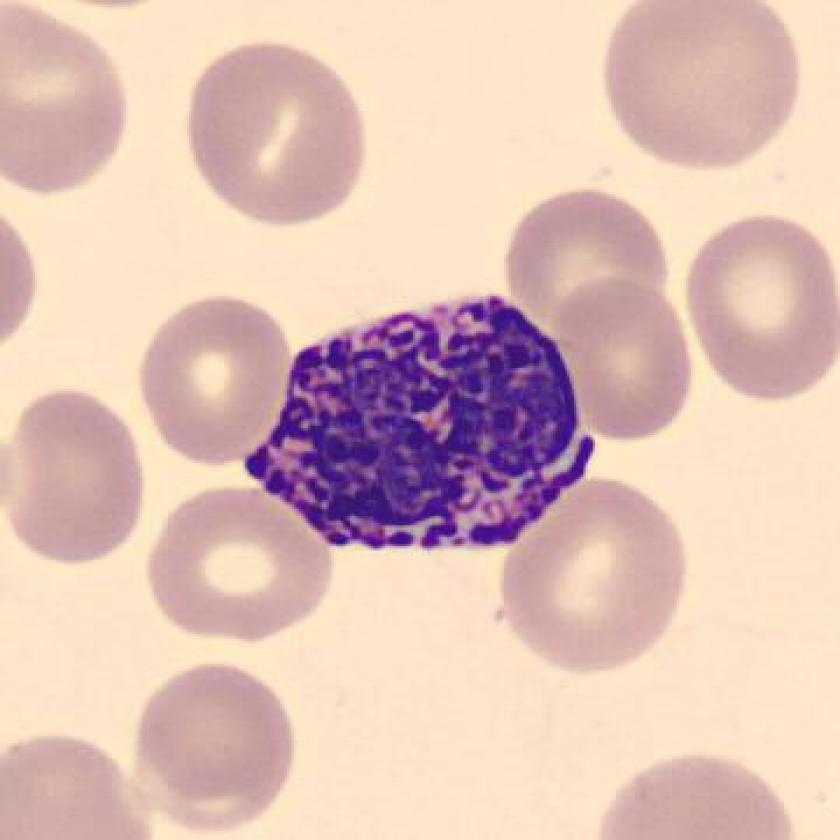basophil: (244, 295, 582, 554)
